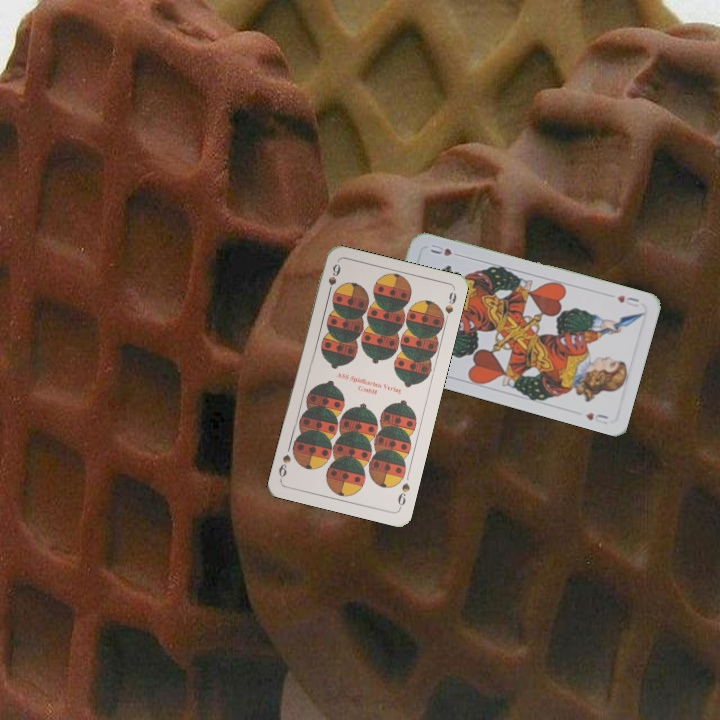HU: (613, 291, 642, 310)
S9: (323, 260, 343, 299), (394, 479, 412, 511)
